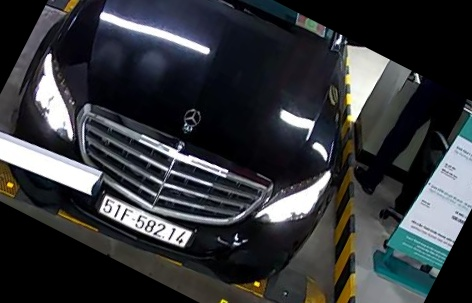plate: (90, 189, 191, 257)
